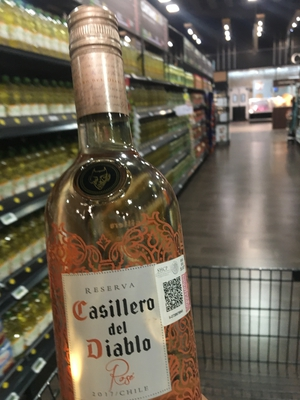casillero del diablo rose: (45, 13, 204, 400)
